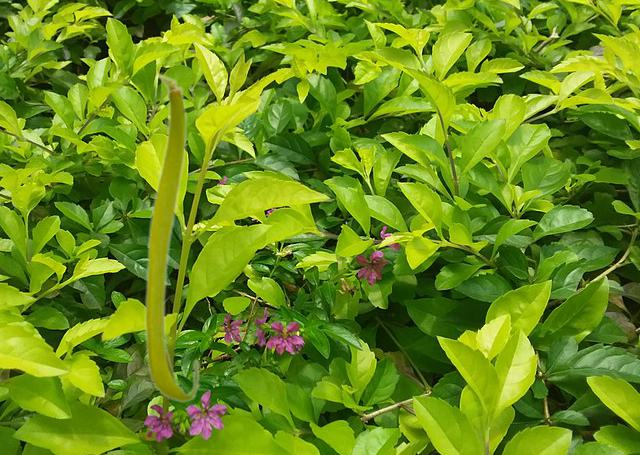french_bean: (143, 72, 199, 402)
